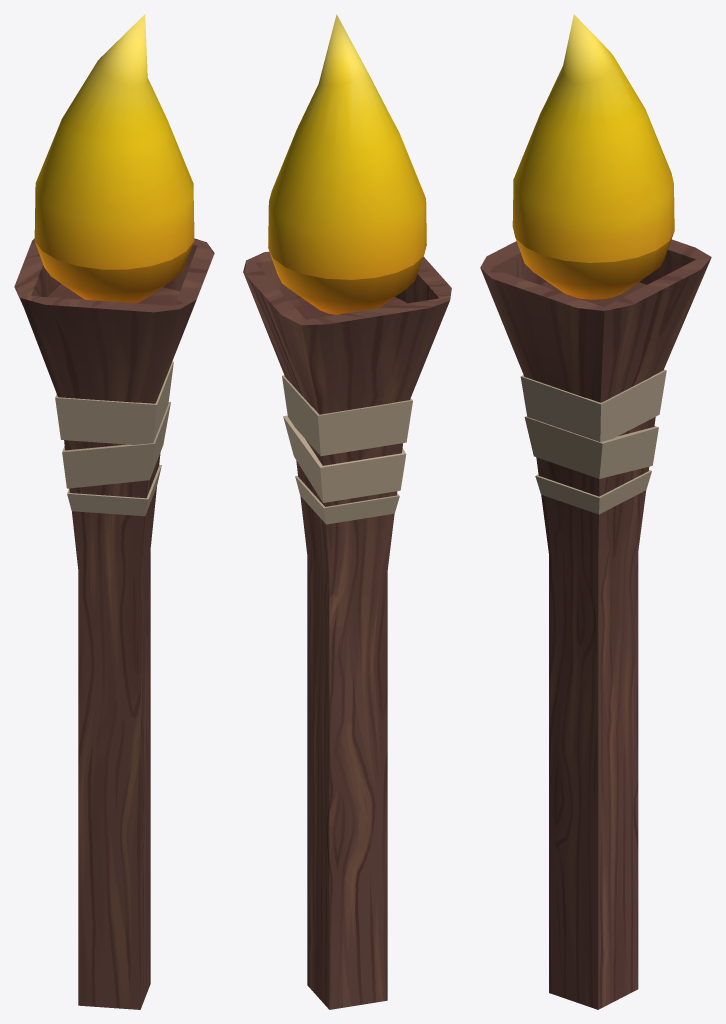
File: torch.glb
3 renders of one model, left to right at view 1: azimuth 30°, elevation 25°; view 2: azimuth 150°, elevation 25°; view 3: azimuth 270°, elevation 25°, orthographic. The views are drawn at different scales.
Parts seen in each view (by area): view 1: Torch; view 2: Torch; view 3: Torch.
Boxes of the visible parts, x1=… form: Torch: x1=14, y1=14, x2=214, y2=1009; Torch: x1=243, y1=14, x2=451, y2=1009; Torch: x1=480, y1=14, x2=711, y2=1009.
Bounding box in the file's own units: 0.0239 × 0.114 × 0.0242.
Materials: 2 (1 with a texture image).
